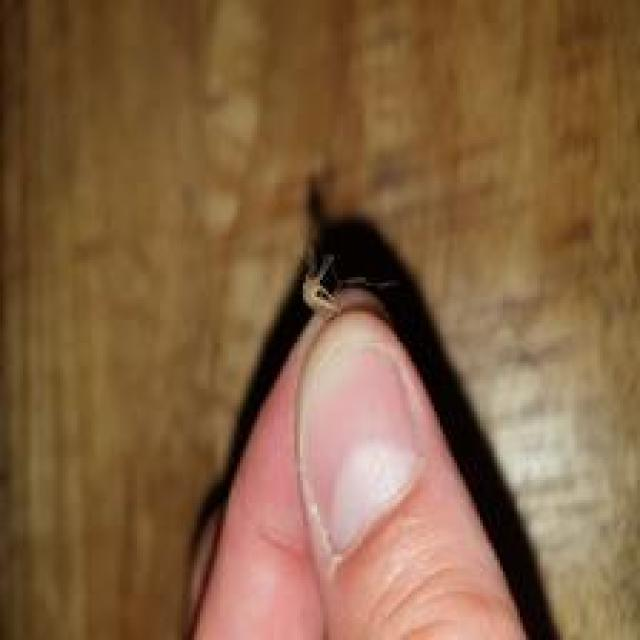Culex: (182, 171, 582, 640)
